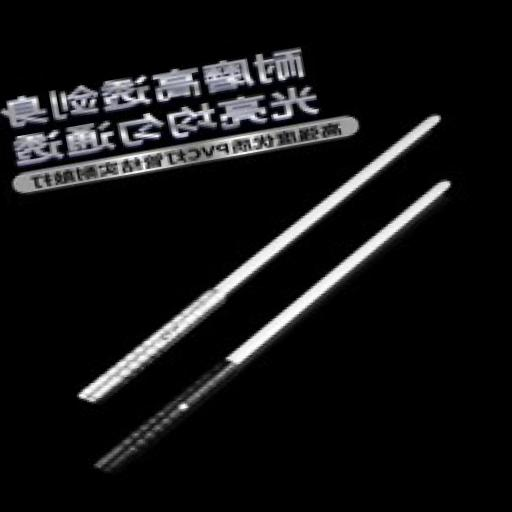lightsaber: (51, 175, 486, 476)
